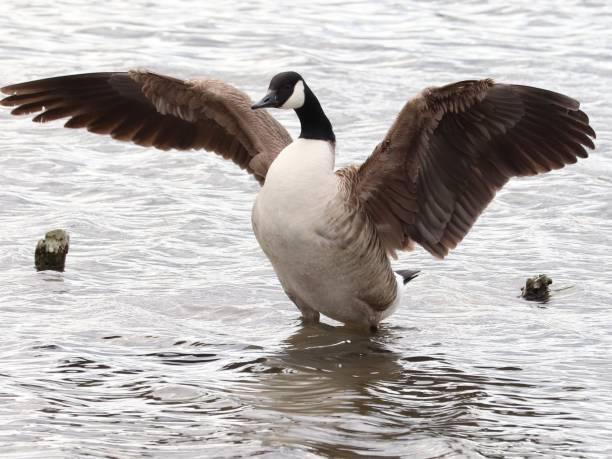Canadian-Goose: (5, 61, 607, 331)
